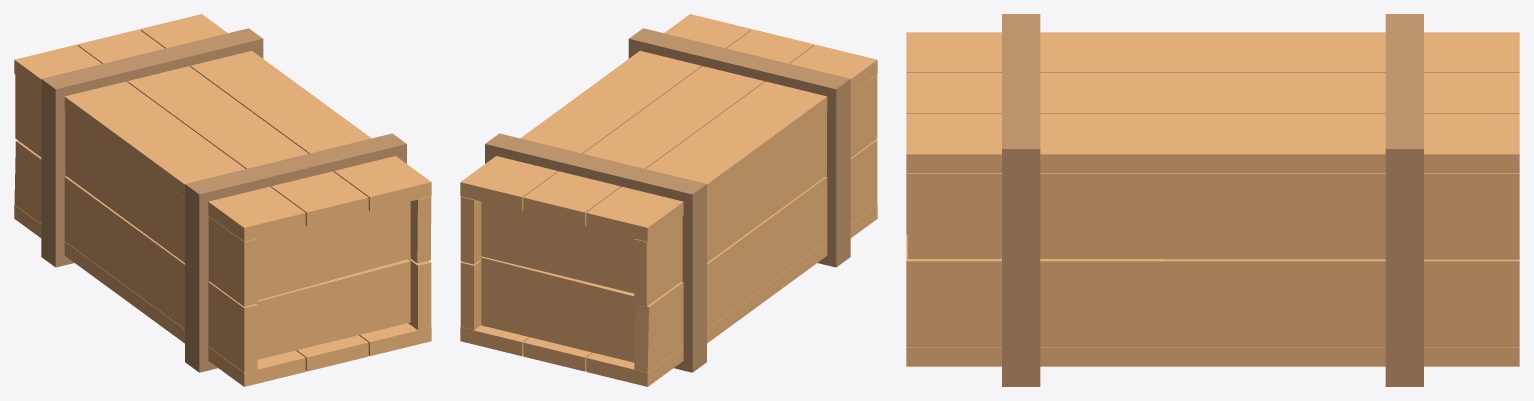
3 renders of one model, left to right at view 1: azimuth 30°, elevation 25°; view 2: azimuth 150°, elevation 25°; view 3: azimuth 270°, elevation 25°, orthographic. The views are drawn at different scales.
Parts seen in each view (by area): view 1: crates.007; view 2: crates.007; view 3: crates.007.
Part boxes in pixels (box(x1,y1,x2,y2)): crates.007: box(14, 14, 431, 386); crates.007: box(460, 14, 877, 386); crates.007: box(906, 14, 1519, 386).
Size of the model in its own units: 165 by 136 by 317.
